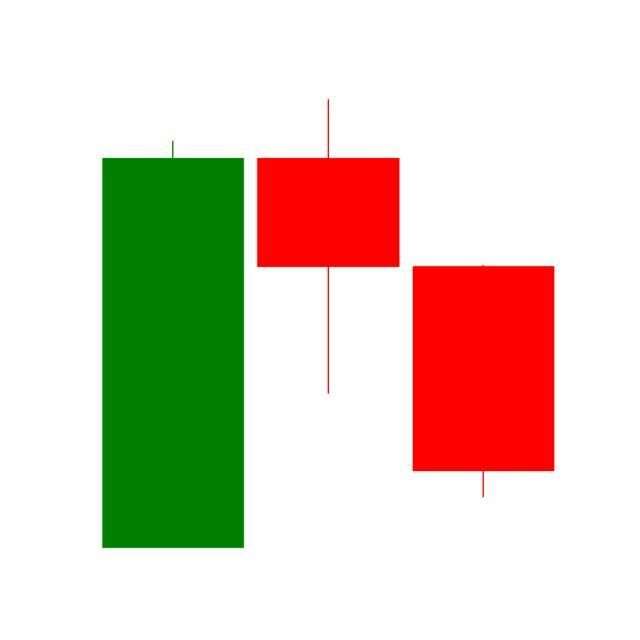Marubozu: (406, 264, 562, 502)
